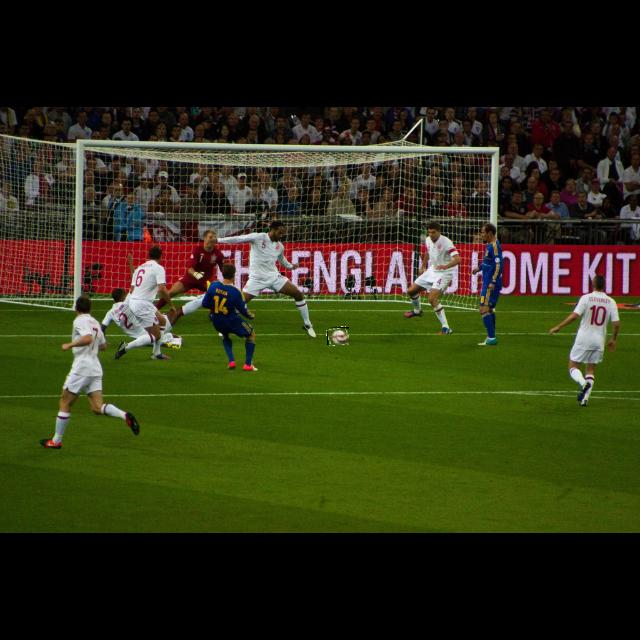Football: (327, 327, 349, 345)
